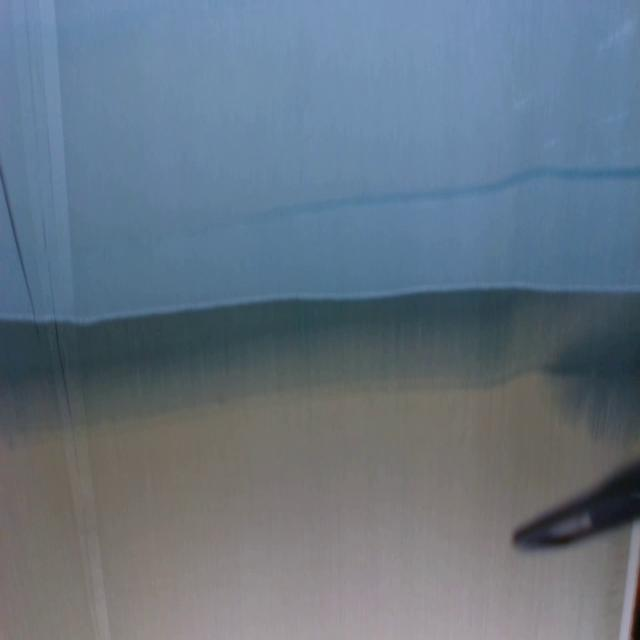color bleeding: (0, 168, 640, 450)
crease: (15, 0, 112, 640), (0, 162, 40, 332)
